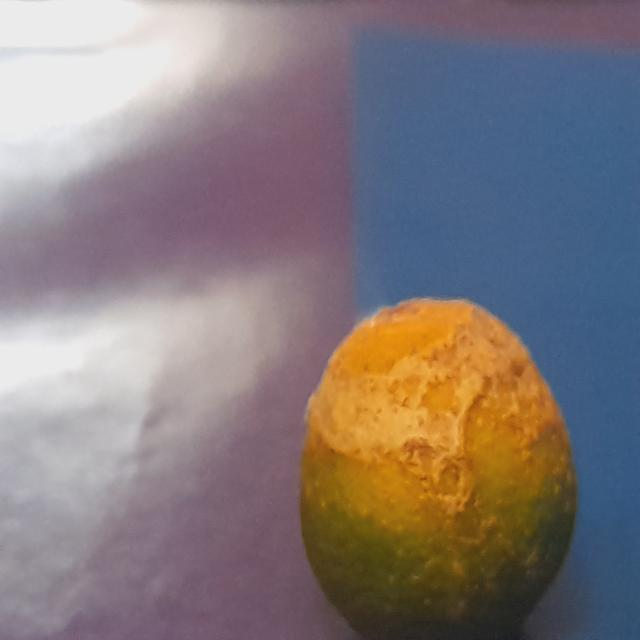thrips: (290, 279, 578, 640)
